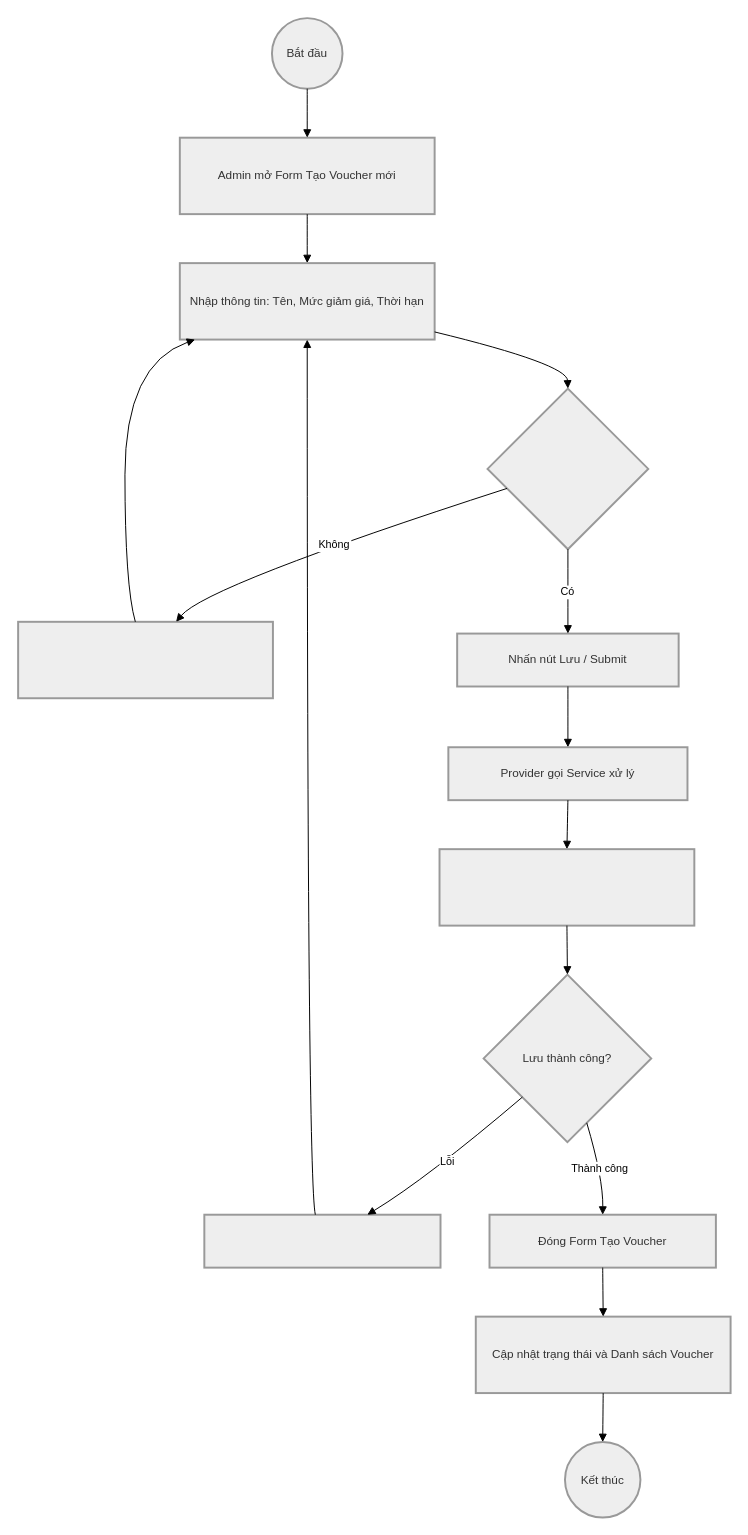
The diagram is 748 pixels wide and 1535 high, and some of its shapes have lost their labels. The centre of each missing label's shape, as x and y in pixels:
"Dữ liệu hợp lệ?" goes at [567,468].
"Firebase Service lưu dữ liệu lên Firestore" goes at [566,887].
"Hiển thị Snackbar báo lỗi" goes at [322,1240].
"Hiển thị thông báo lỗi trên Form" goes at [145,659].
